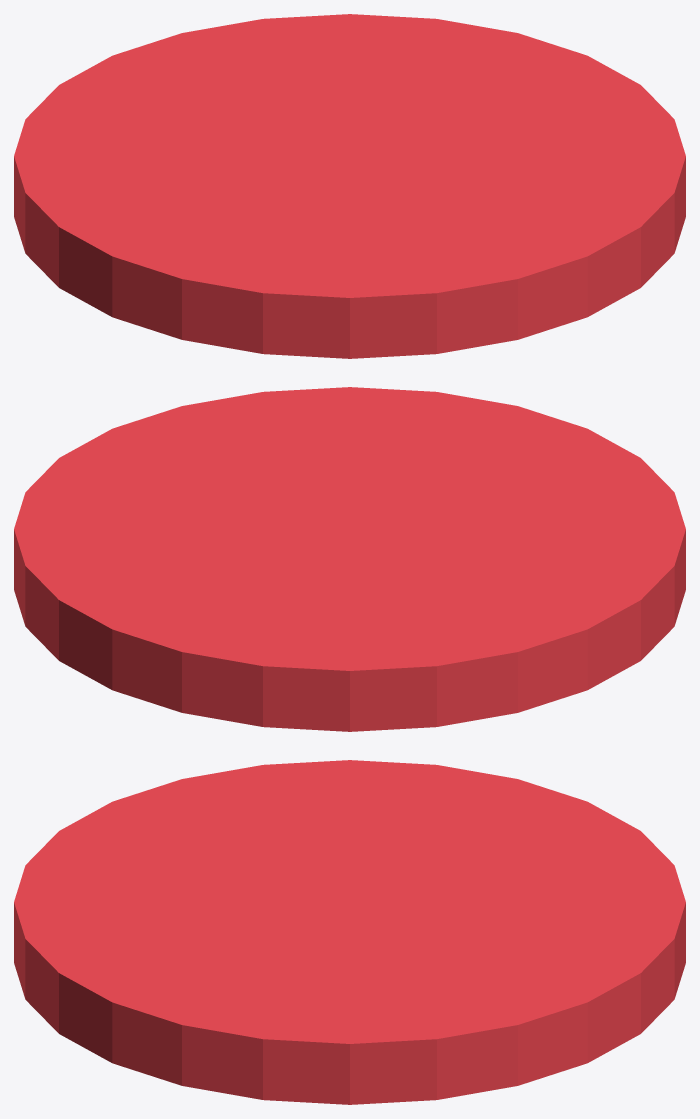
The model's file is washer_bottom.dae.
3 renders of one model, top to bottom at view 1: azimuth 30°, elevation 25°; view 2: azimuth 150°, elevation 25°; view 3: azimuth 270°, elevation 25°, orthographic.
Parts seen in each view (by area): view 1: base; view 2: base; view 3: base.
Boxes of the visible parts, x1,y1,x2,y2 form: base: (14, 14, 685, 358); base: (14, 387, 685, 731); base: (14, 760, 685, 1104).
Size of the model in its own units: 0.0254 by 0.0254 by 0.00254.
